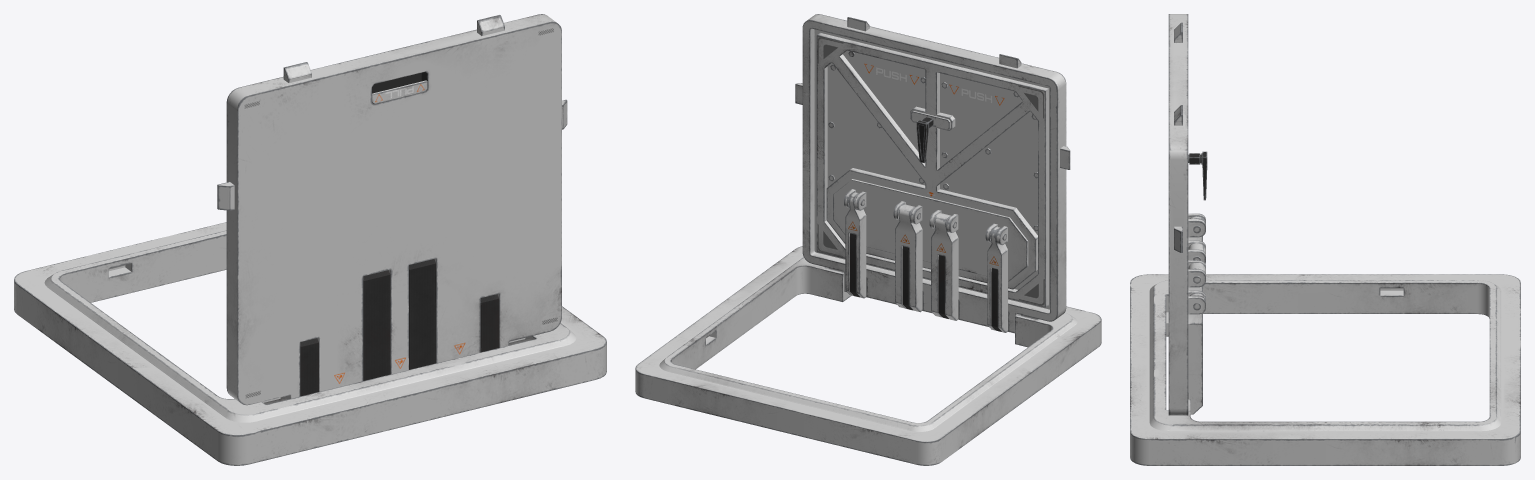
Rendered from floor_hatch_free.glb.
3 renders of one model, left to right at view 1: azimuth 30°, elevation 25°; view 2: azimuth 150°, elevation 25°; view 3: azimuth 270°, elevation 25°, orthographic. The views are drawn at different scales.
Size of the model in its own units: 4 by 3.56 by 4.
Materials: 1 (1 with a texture image).
